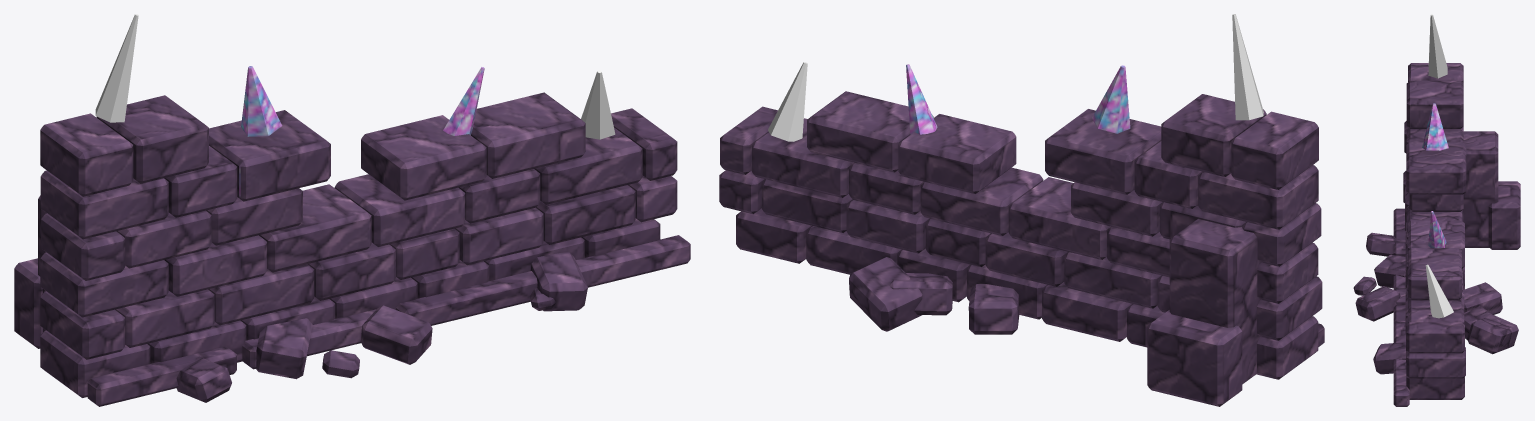
The model's file is mapkit_wall_crystal.fbx.
The picture shows the model from 3 angles, left to right: view 1: azimuth 30°, elevation 25°; view 2: azimuth 150°, elevation 25°; view 3: azimuth 270°, elevation 25°; orthographic projection. The views are drawn at different scales.
Visible parts, largest first — view 1: Body, c_115_230_255; view 2: Body, c_115_230_255; view 3: Body, c_115_230_255.
Part boxes in pixels (box(x1,y1,x2,y2)): Body: box(14, 66, 690, 406); c_115_230_255: box(95, 14, 615, 139); Body: box(719, 64, 1324, 406); c_115_230_255: box(768, 14, 1263, 141); Body: box(1353, 63, 1520, 406); c_115_230_255: box(1425, 14, 1453, 318).
Bounding box in the file's own units: 1403 × 824 × 527.
Materials: 1 (1 with a texture image).
